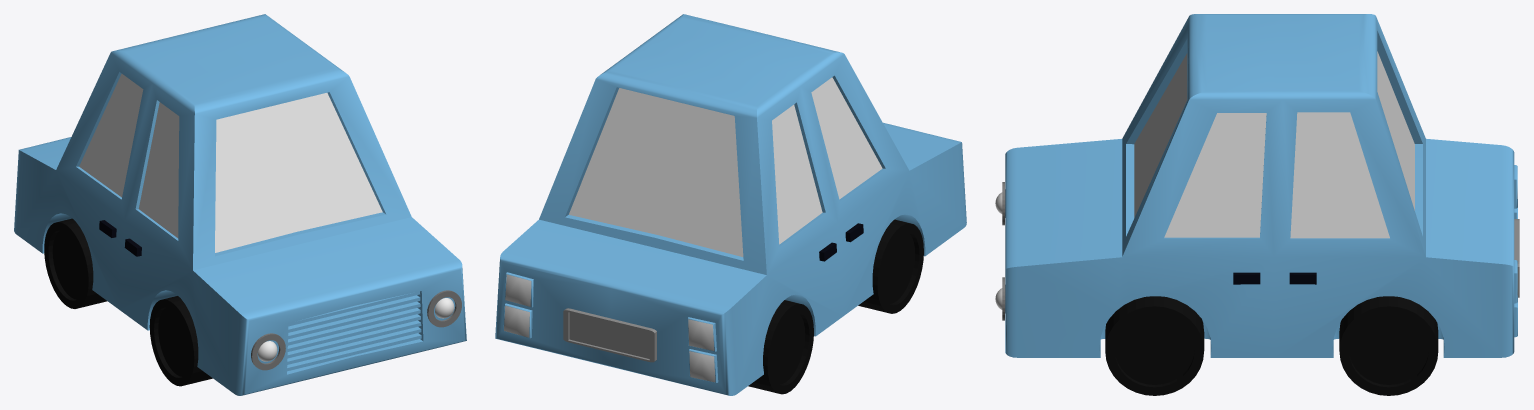
The model's file is 3car.fbx.
The picture shows the model from 3 angles, left to right: view 1: azimuth 30°, elevation 25°; view 2: azimuth 150°, elevation 25°; view 3: azimuth 270°, elevation 25°; orthographic projection. The views are drawn at different scales.
Visible parts, largest first — view 1: Cube, Cylinder.001, Cube.001, Circle.001, Sphere.001; view 2: Cube, Cylinder.001, Plane; view 3: Cube, Cylinder.001.
Boxes of the visible parts, x1=… form: Cube: x1=14, y1=14, x2=466, y2=395; Cylinder.001: x1=44, y1=218, x2=212, y2=386; Cube.001: x1=287, y1=291, x2=421, y2=371; Circle.001: x1=251, y1=290, x2=461, y2=370; Sphere.001: x1=258, y1=298, x2=454, y2=361; Cube: x1=495, y1=14, x2=966, y2=395; Cylinder.001: x1=748, y1=219, x2=923, y2=394; Plane: x1=563, y1=308, x2=656, y2=362; Cube: x1=1005, y1=14, x2=1517, y2=357; Cylinder.001: x1=1105, y1=296, x2=1438, y2=395.
Size of the model in its own units: 306 by 319 by 541.
